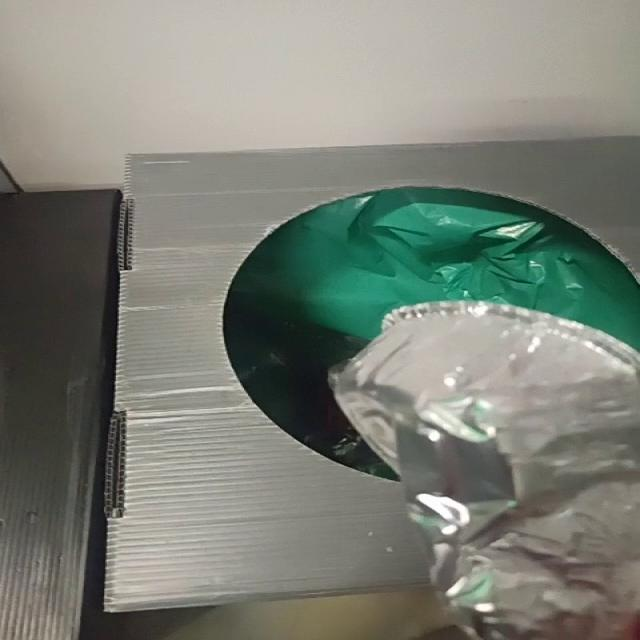bin: (104, 137, 637, 612)
metal: (331, 302, 639, 640)
